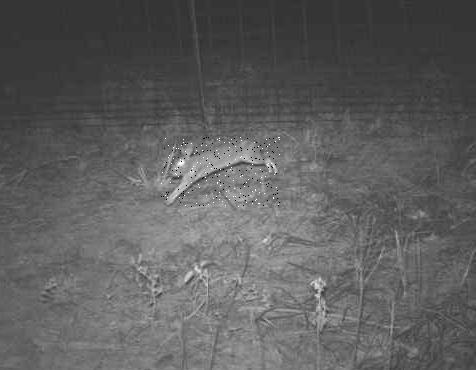Rabbit: (161, 137, 280, 207)
